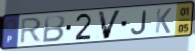2: (74, 13, 93, 42)
B: (41, 14, 67, 44)
J: (130, 9, 148, 35)
K: (154, 7, 173, 35)
R: (18, 16, 44, 45)
V: (97, 9, 124, 41)
